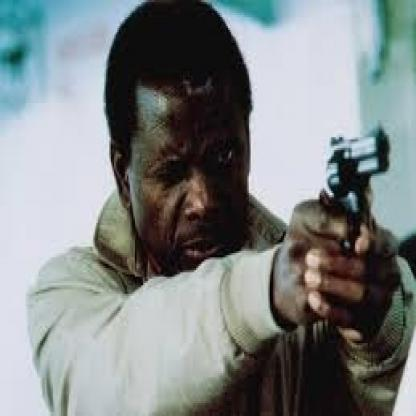Pistol: (310, 118, 400, 244)
